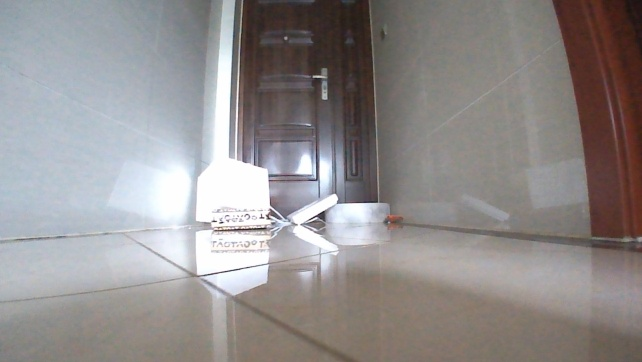door_anno: (227, 0, 382, 226)
